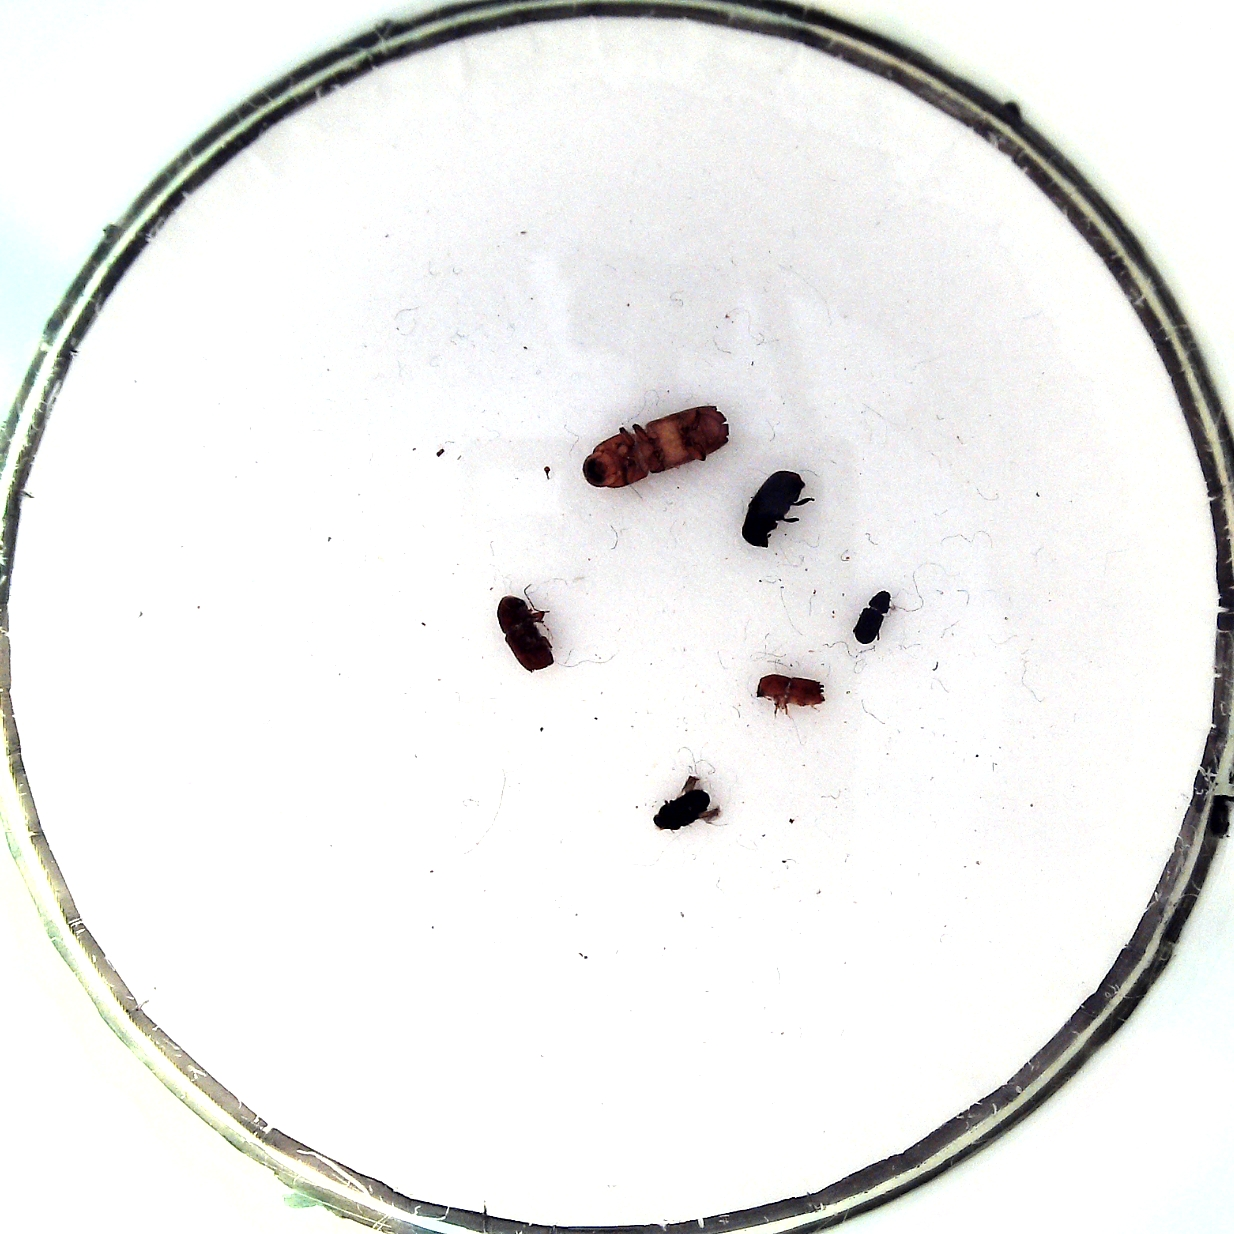Boerner: (583, 405, 729, 489)
acuminatus: (653, 789, 711, 831), (853, 591, 890, 644)
armandi: (741, 470, 806, 548)
coleoptera: (757, 674, 826, 707)
linnaeus: (497, 596, 554, 674)
